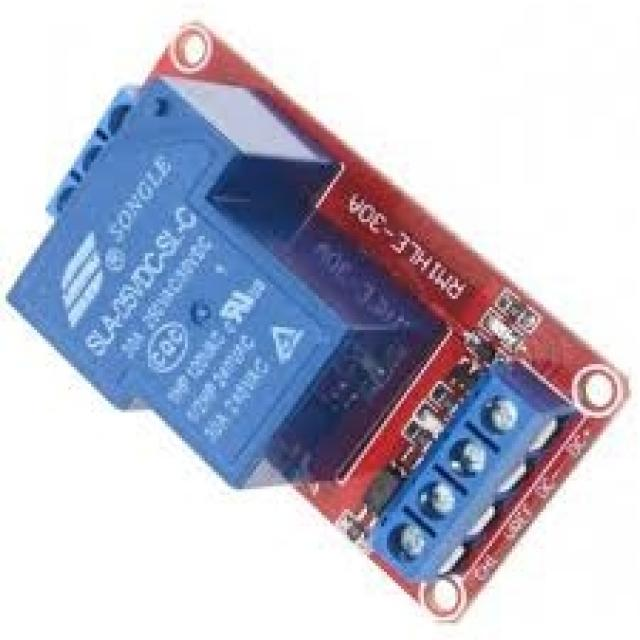Relay: (9, 23, 629, 620)
